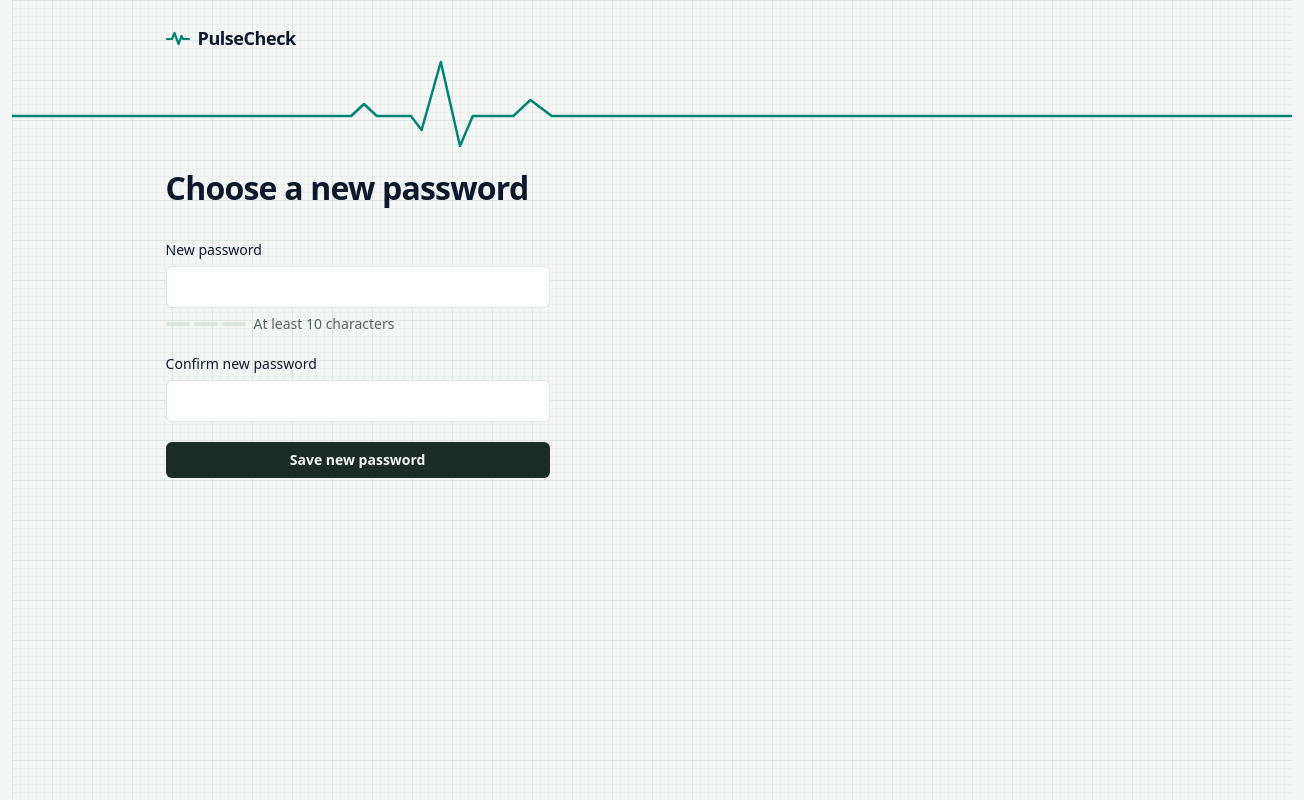
it: ResetPassword › confirms success and links to login
The width and height of the screenshot is (1304, 800).
Type "a-brand-new-password" into the password field labelled "New password".
click(358, 287); type("a-brand-new-password")  # box [166, 266, 550, 308]
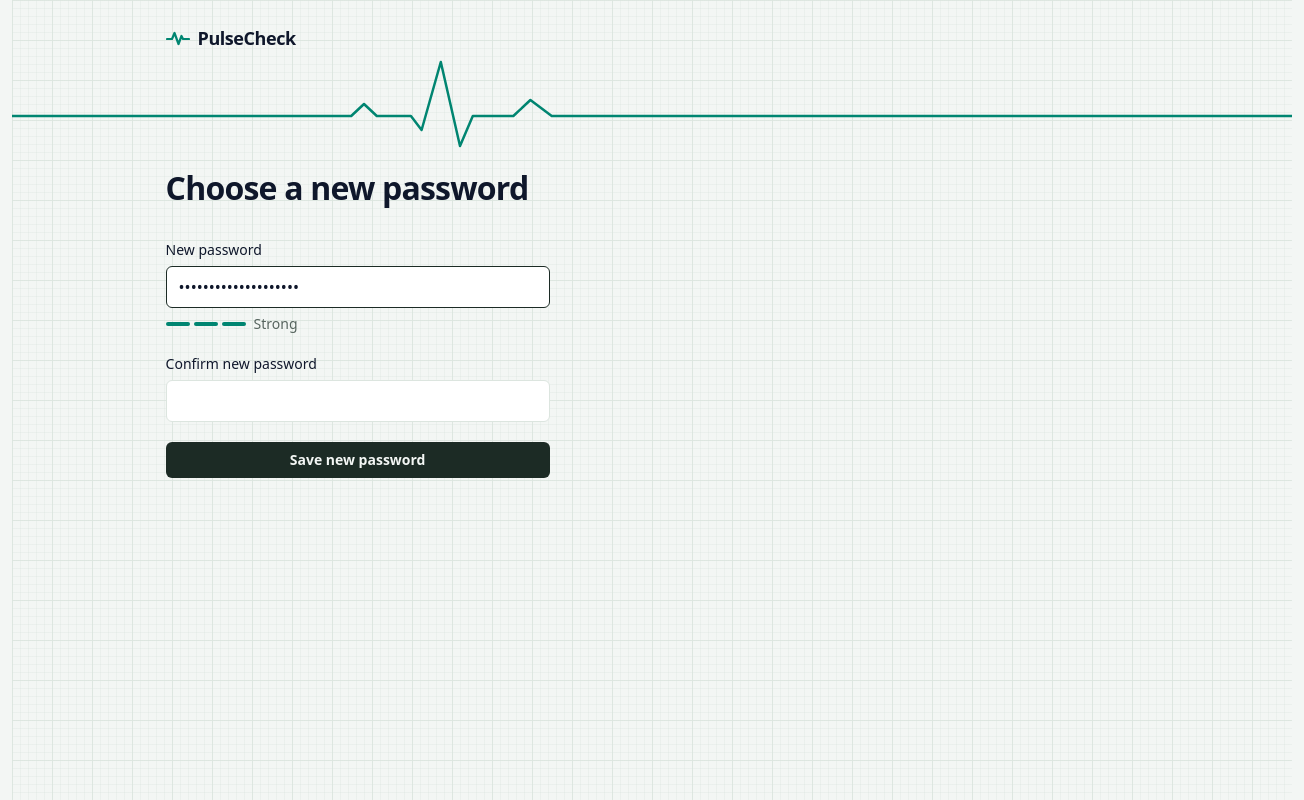
Type "a-brand-new-password" into the password field labelled "Confirm new password".
click(358, 401); type("a-brand-new-password")  # box [166, 380, 550, 422]
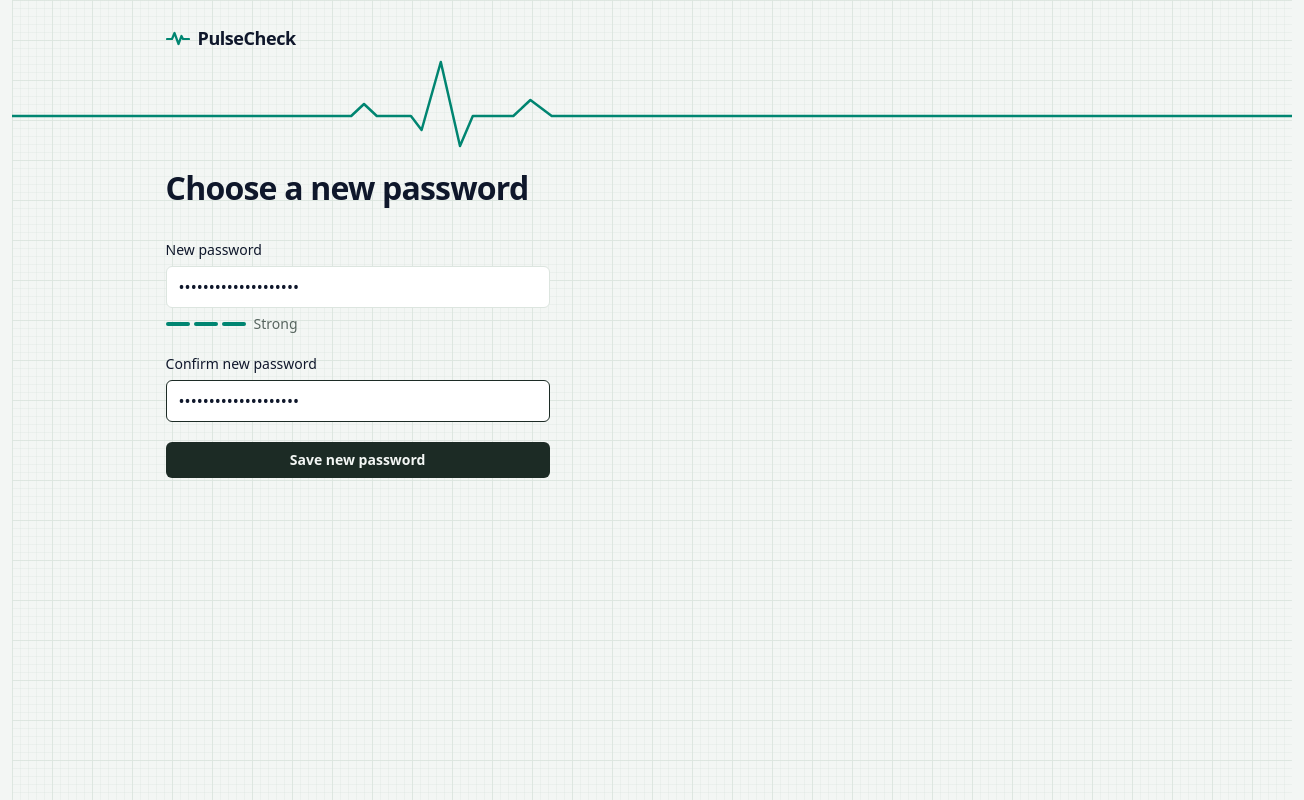
Click the button "Save new password".
click(358, 460)  # box [166, 442, 550, 478]
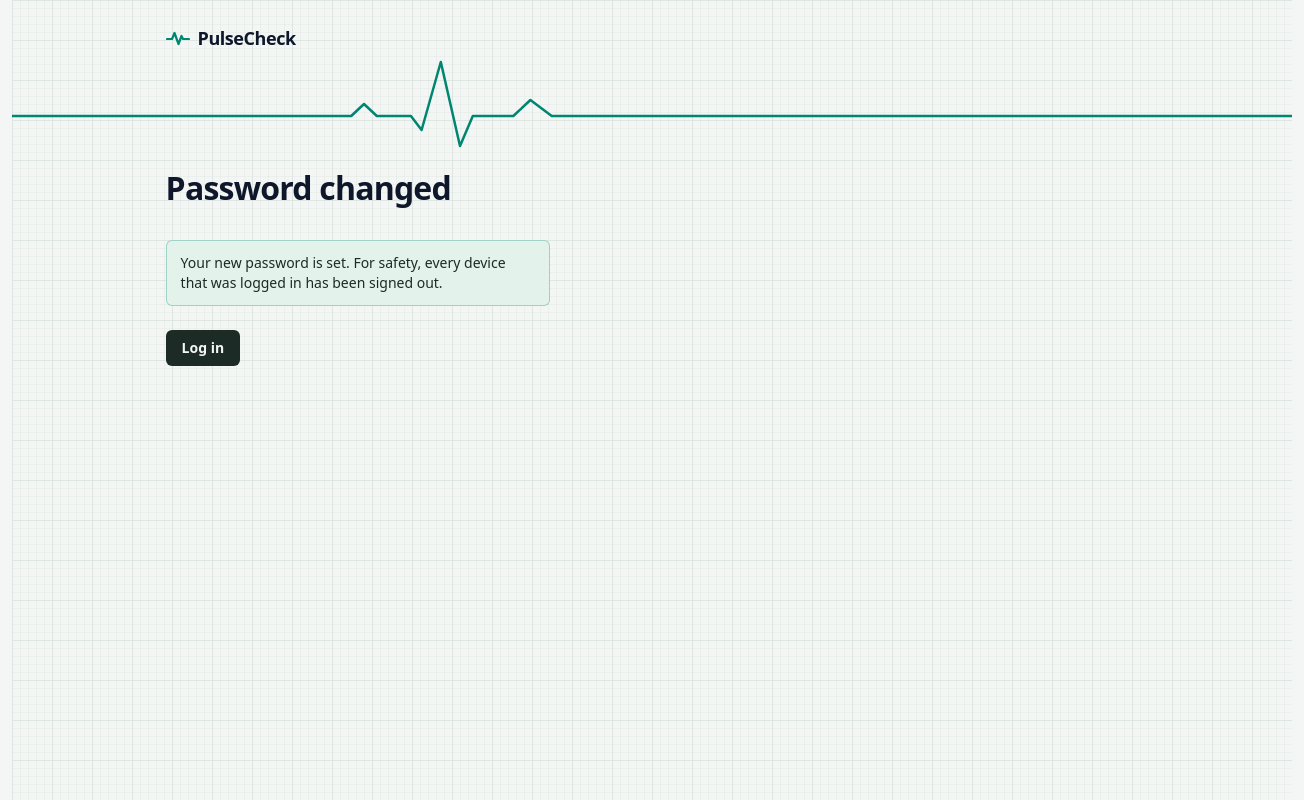
expect the heading "Password changed" is shown: met, box [166, 166, 451, 209]
